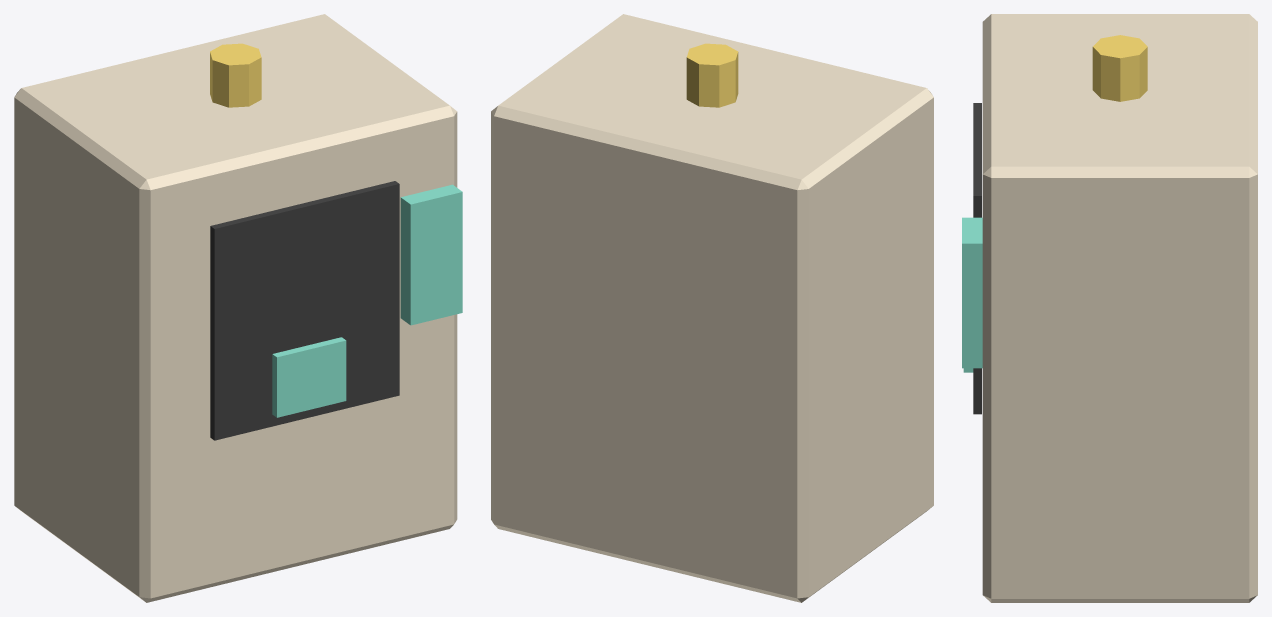
The picture shows the model from 3 angles, left to right: view 1: azimuth 30°, elevation 25°; view 2: azimuth 150°, elevation 25°; view 3: azimuth 270°, elevation 25°; orthographic projection. The views are drawn at different scales.
Visible parts, largest first — view 1: Machine, Cabinet window, Control panel, Workpiece, Warning lamp; view 2: Machine, Warning lamp; view 3: Machine, Warning lamp, Control panel, Cabinet window.
Part boxes in pixels (x1,y1,x2,y2): Machine: (14,14,457,602); Cabinet window: (210,181,399,440); Control panel: (400,184,462,325); Workpiece: (272,337,346,417); Warning lamp: (210,43,261,107); Machine: (491,14,933,602); Warning lamp: (686,43,738,107); Machine: (982,14,1257,602); Warning lamp: (1092,35,1147,101); Control panel: (962,217,982,368); Cabinet window: (973,103,981,414).
Bounding box in the file's own units: 1.1 × 1.54 × 0.86.
1 material, 1 textured.
